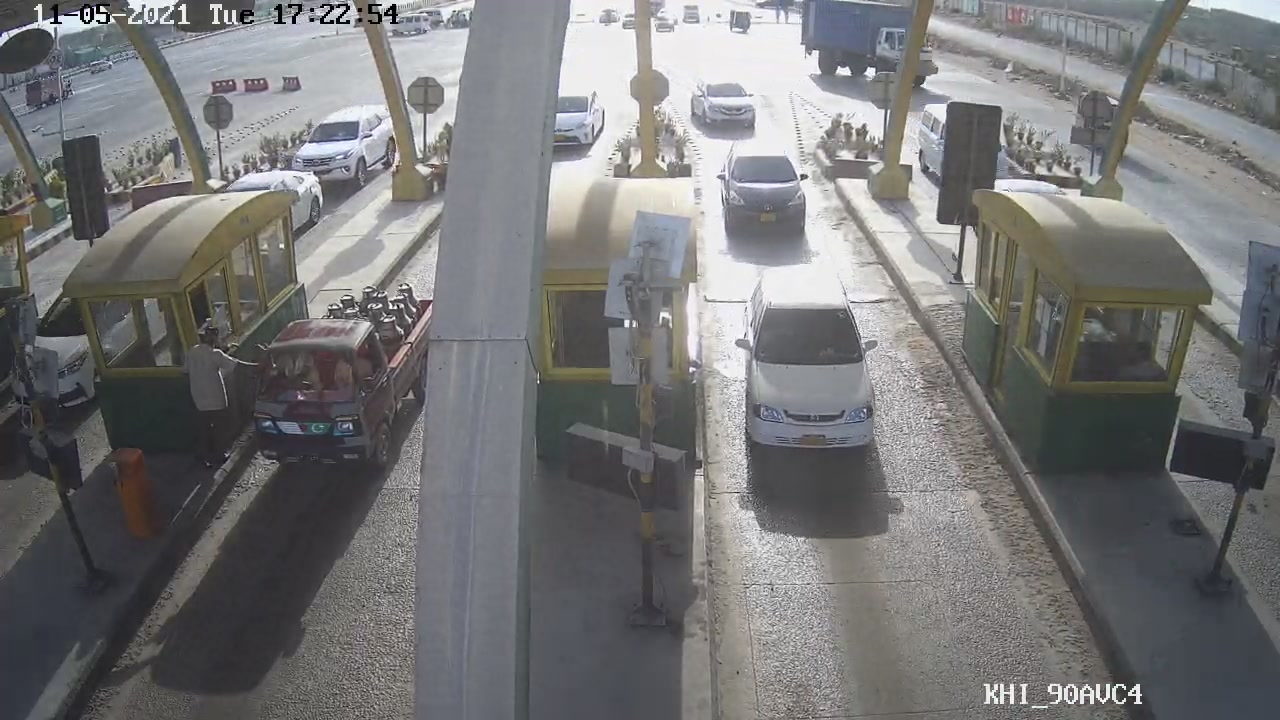F1: (731, 262, 888, 467), (711, 132, 812, 251)
